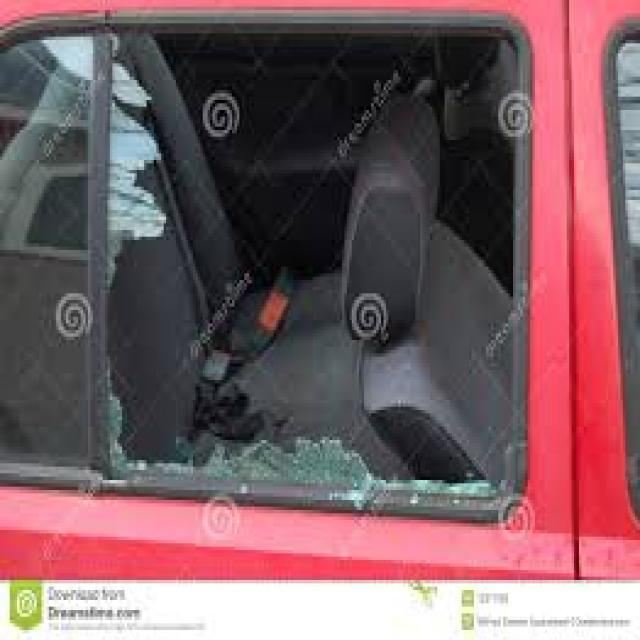damaged-window: (92, 16, 521, 504)
